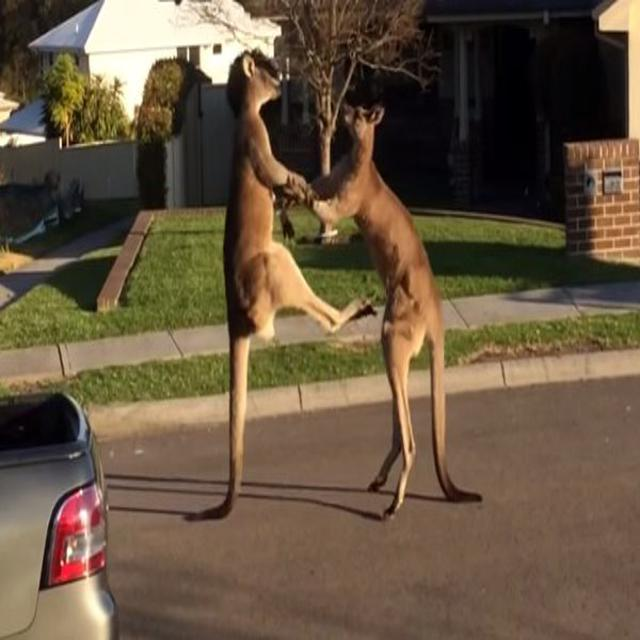kangaroo: (317, 92, 482, 514), (219, 53, 317, 528)
